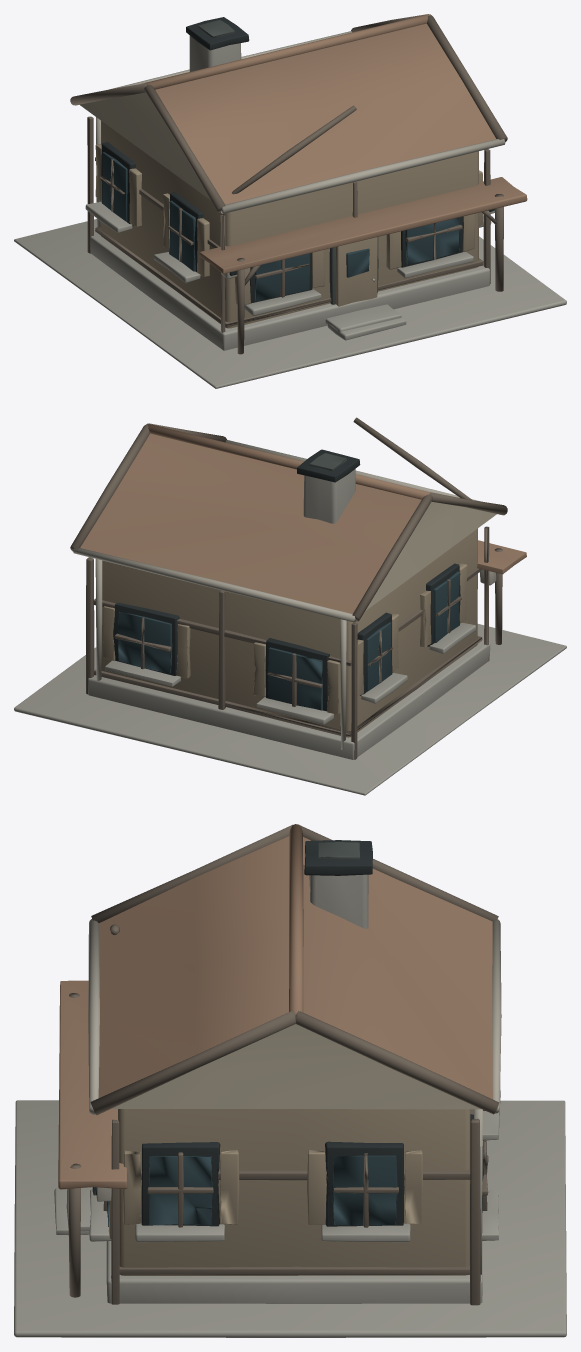
File: district_art_2.glb
The picture shows the model from 3 angles, top to bottom: view 1: azimuth 30°, elevation 25°; view 2: azimuth 150°, elevation 25°; view 3: azimuth 270°, elevation 25°; orthographic projection. The views are drawn at different scales.
Visible parts, largest first — view 1: roof, stone, wood, timber, glass, plaster, metal, trim, dark; view 2: roof, stone, wood, timber, glass, metal, trim, plaster; view 3: roof, stone, wood, timber, plaster, glass, trim, metal, dark.
Part boxes in pixels (box(x1,y1,x2,y2)): roof: box(141, 14, 527, 273); stone: box(14, 35, 566, 388); wood: box(95, 121, 482, 328); timber: box(70, 14, 507, 354); glass: box(102, 152, 459, 301); plaster: box(79, 92, 210, 200); metal: box(75, 31, 505, 281); trim: box(101, 17, 494, 303); dark: box(198, 20, 378, 304); roof: box(80, 424, 526, 613); stone: box(14, 469, 566, 795); wood: box(101, 528, 477, 737); timber: box(70, 417, 507, 759); glass: box(118, 571, 460, 710); metal: box(73, 440, 496, 749); trim: box(113, 449, 460, 711); plaster: box(365, 501, 496, 610); roof: box(58, 824, 492, 1189); stone: box(14, 874, 566, 1337); wood: box(108, 1109, 470, 1275); timber: box(68, 824, 499, 1305); plaster: box(111, 1024, 481, 1109); glass: box(107, 1146, 483, 1226); trim: box(92, 840, 473, 1226); metal: box(88, 919, 501, 1274); dark: box(318, 842, 359, 859).
Size of the model in its own units: 12.5 by 8.39 by 12.5.
